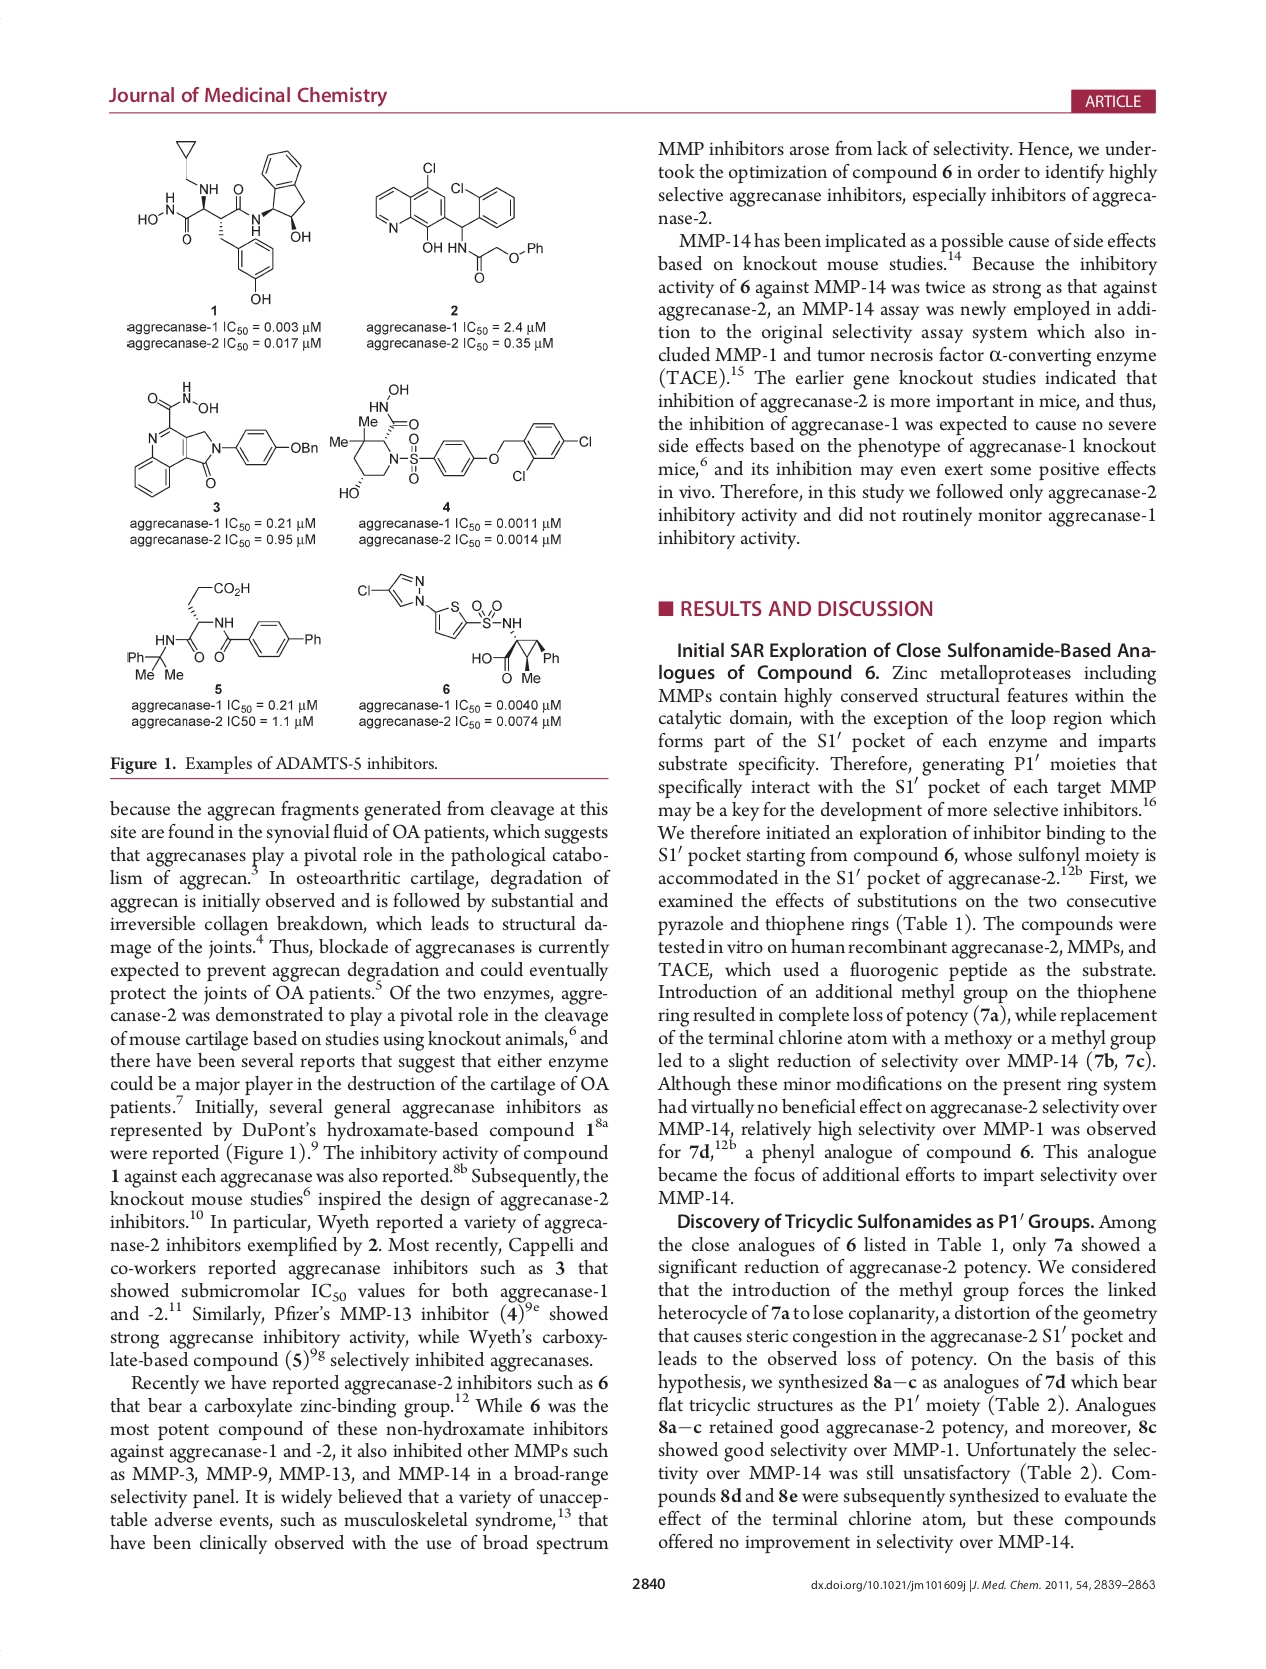exist_molecular: (327, 380, 592, 501), (136, 138, 316, 306), (356, 567, 561, 686), (130, 380, 319, 499), (372, 161, 547, 286), (124, 580, 324, 682)
